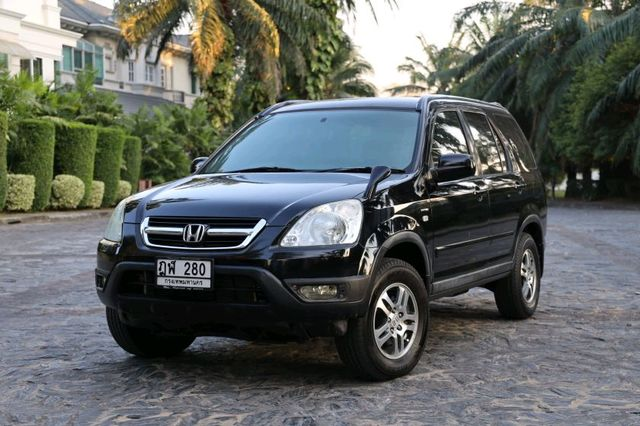pickup: (94, 94, 551, 382)
